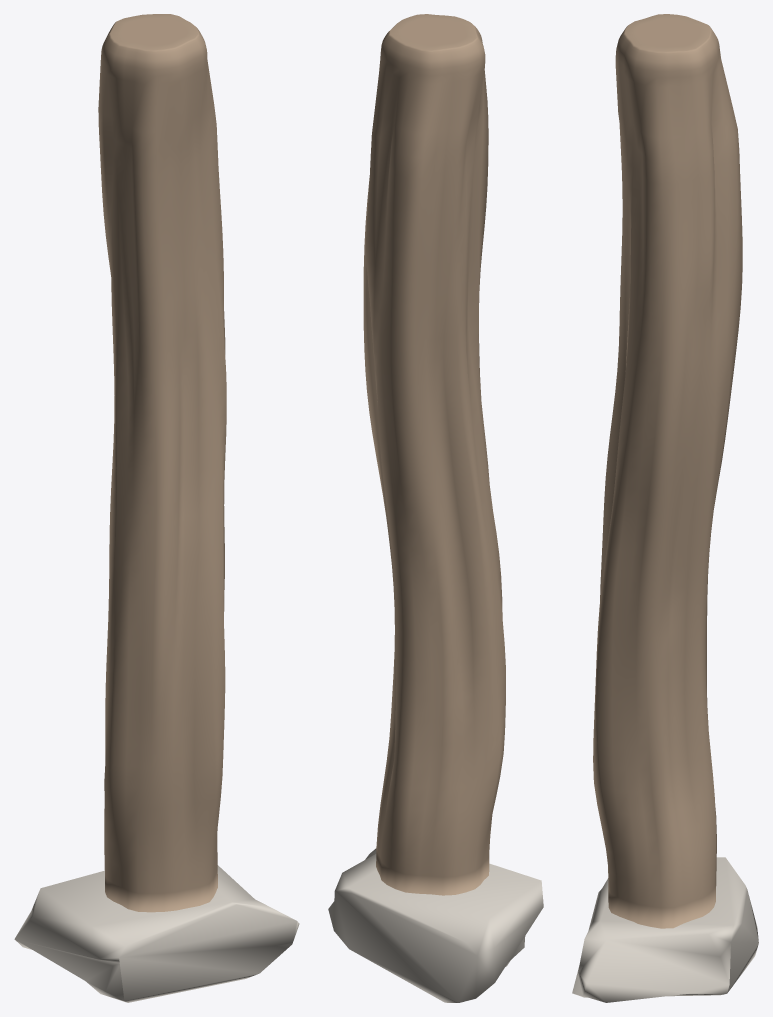
File: bagana-f2-3x11x3-v2.glb
3 views of the same model, side by side, from view 1: azimuth 30°, elevation 25°; view 2: azimuth 150°, elevation 25°; view 3: azimuth 270°, elevation 25° (orthographic). The views are drawn at different scales.
Visible parts, largest first — view 1: bagana_wood, bagana_stone; view 2: bagana_wood, bagana_stone; view 3: bagana_wood, bagana_stone.
Part boxes in pixels (box(x1,y1,x2,y2)): bagana_wood: box(98, 14, 226, 912); bagana_stone: box(14, 865, 299, 1002); bagana_wood: box(363, 14, 505, 895); bagana_stone: box(328, 848, 543, 1002); bagana_wood: box(593, 14, 742, 928); bagana_stone: box(572, 857, 758, 1002).
Size of the model in its own units: 0.6304 by 2.75 by 0.4895.
